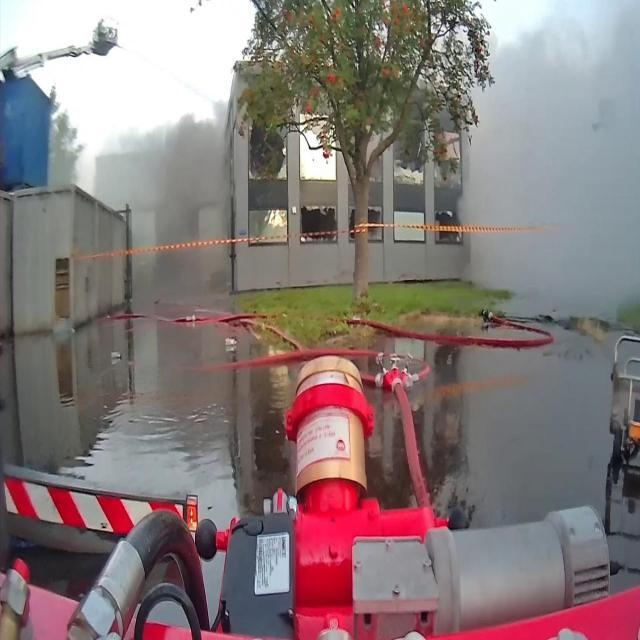Fire: (298, 114, 336, 181), (264, 208, 288, 226)
Smoke: (455, 0, 640, 316), (100, 97, 232, 290)
